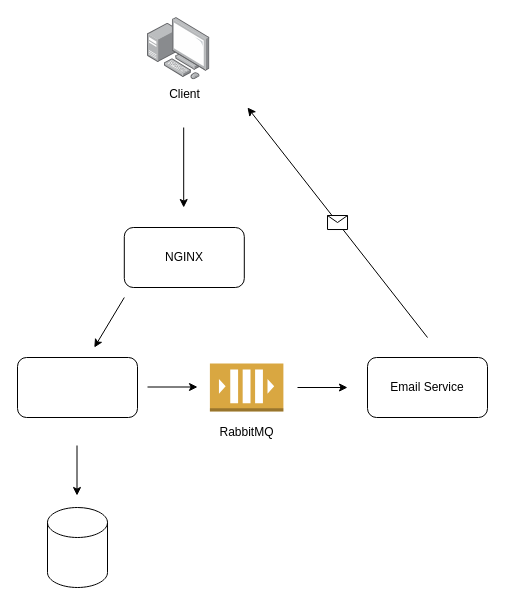
This 505x605 diagram has some shape labels left out. The centre of each missing label's shape, as x and y in pixels:
"Cat Fact Service" belongs at [77,387].
"Postgres" belongs at [77,547].
